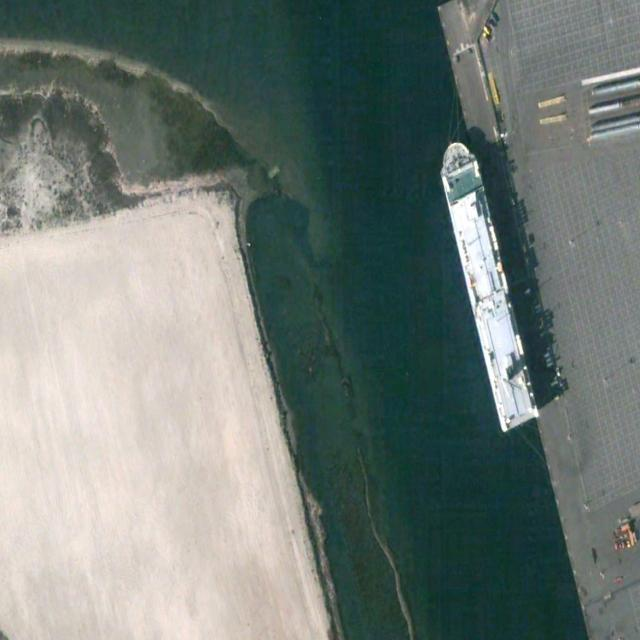RoRo: (434, 132, 540, 435)
